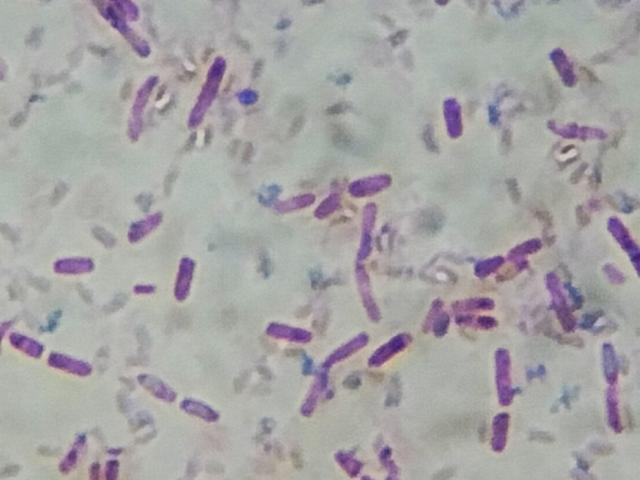E. coli: (182, 50, 230, 133), (545, 263, 579, 336), (603, 206, 640, 272), (353, 256, 389, 323), (123, 73, 156, 142), (323, 325, 367, 366), (373, 332, 417, 369), (602, 377, 631, 432), (438, 92, 469, 143), (491, 340, 515, 403), (112, 13, 147, 56), (5, 325, 45, 362), (266, 316, 315, 346), (49, 250, 98, 280), (552, 117, 606, 144), (346, 170, 393, 201), (358, 199, 384, 255), (171, 252, 199, 304), (486, 406, 515, 455), (135, 372, 175, 406), (301, 365, 328, 415), (181, 393, 223, 425), (128, 212, 169, 243), (49, 350, 90, 381), (508, 232, 548, 263), (546, 45, 574, 88), (276, 187, 316, 217), (313, 187, 347, 221), (448, 290, 498, 313), (108, 0, 146, 29), (335, 446, 366, 477), (471, 247, 506, 273), (598, 337, 619, 376), (62, 435, 84, 471), (433, 312, 455, 337), (421, 296, 443, 321), (461, 313, 496, 328), (84, 456, 102, 480), (108, 453, 120, 480)
